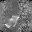people: (10, 15, 20, 28)
